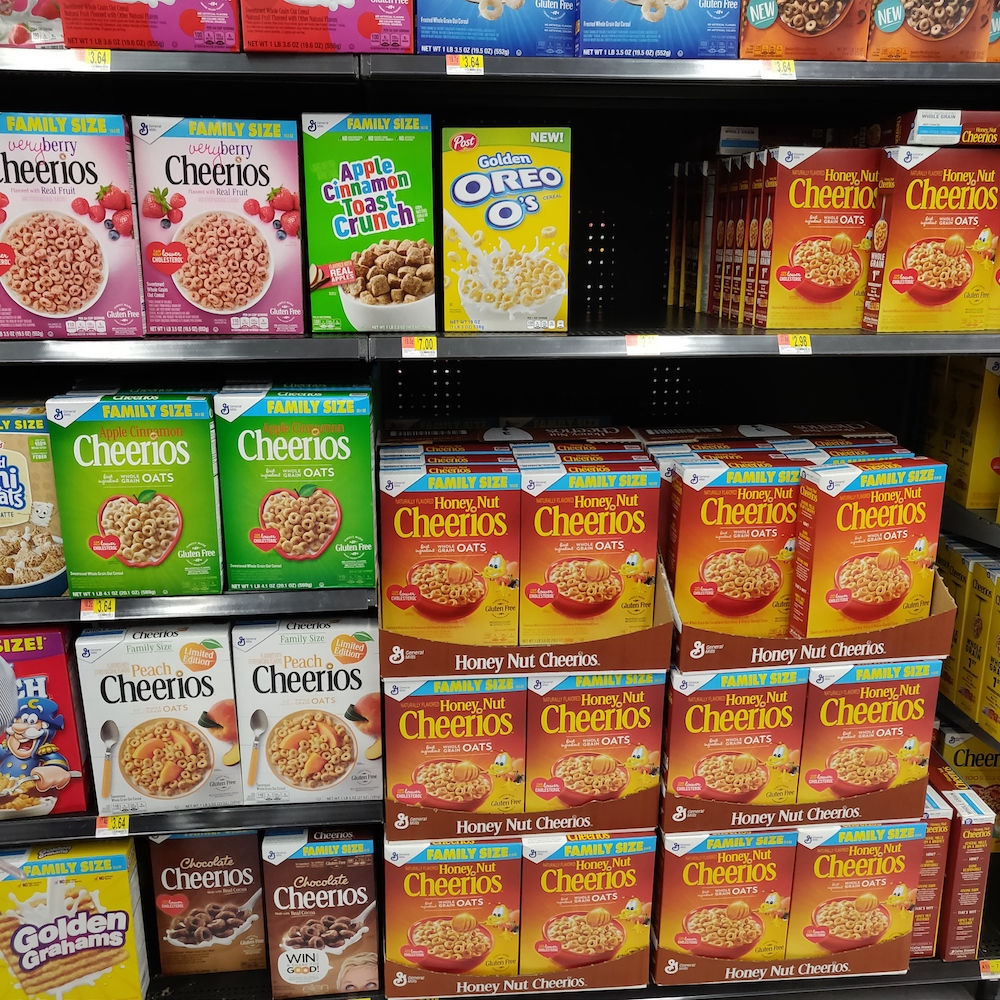Oreo Golden-568301011: (444, 129, 571, 333)
